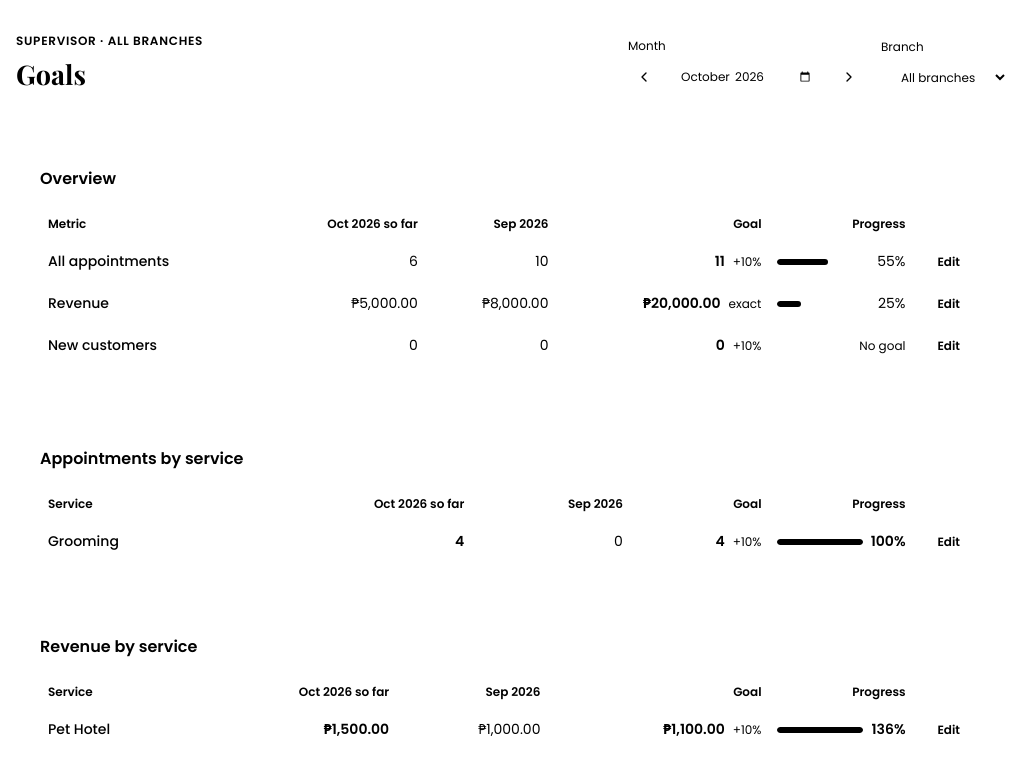
Test: GoalsPage › saves a new growth rate and exact target, then reloads
Check: the row "All appointments 6 10 11+10% 55% Edit" is shown, box top-left (40, 240), bottom-right (984, 282)
Click the button with aria-label "Edit goal for All appointments" at (949, 262), box top-left (922, 248), bottom-right (976, 274)
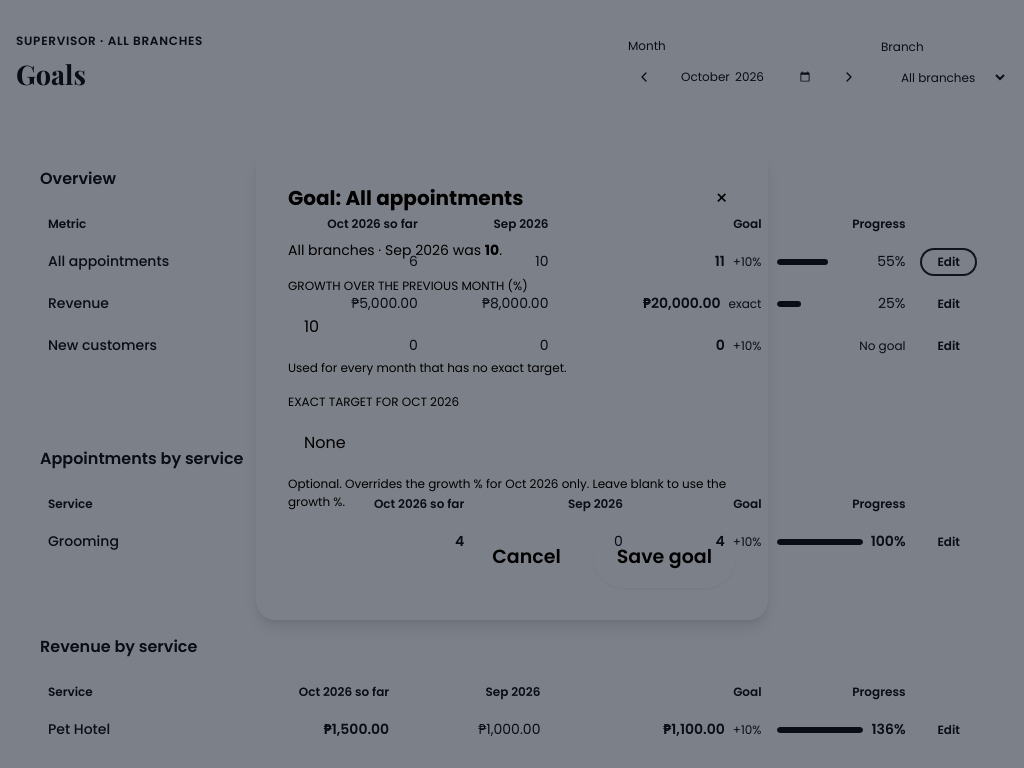
Replace the text in the number field labelled "Growth over the previous" with "20" at (512, 327), box top-left (288, 299), bottom-right (736, 355)
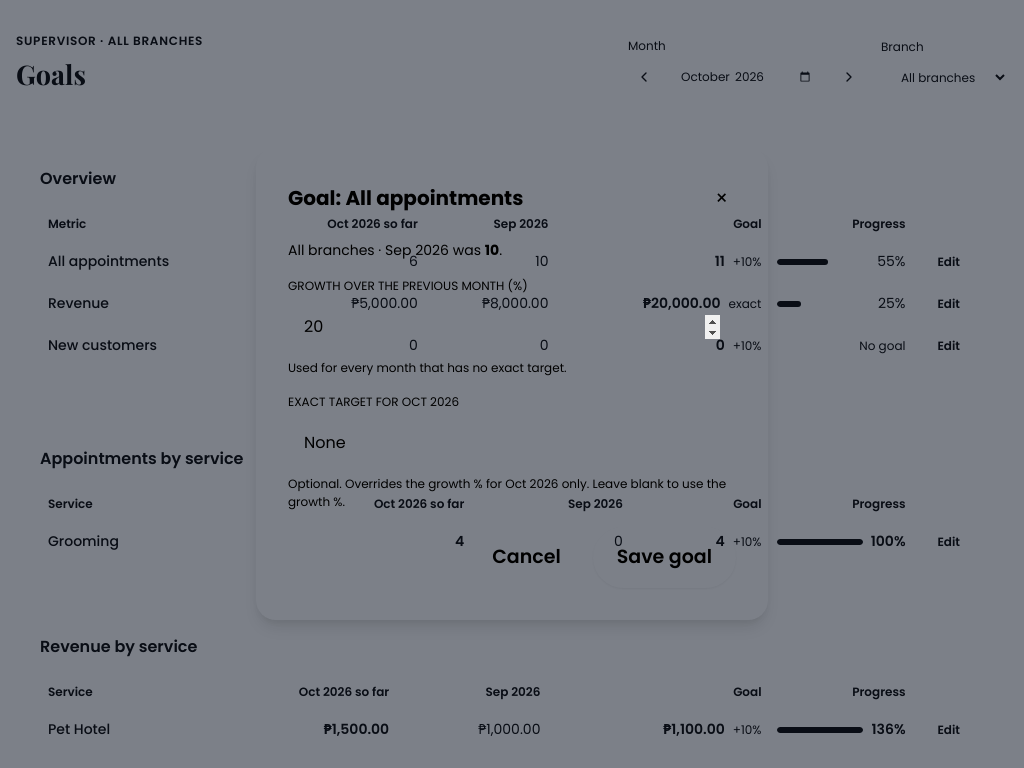
Type "15" into the number field labelled "Exact target" at (512, 443), box top-left (288, 415), bottom-right (736, 471)
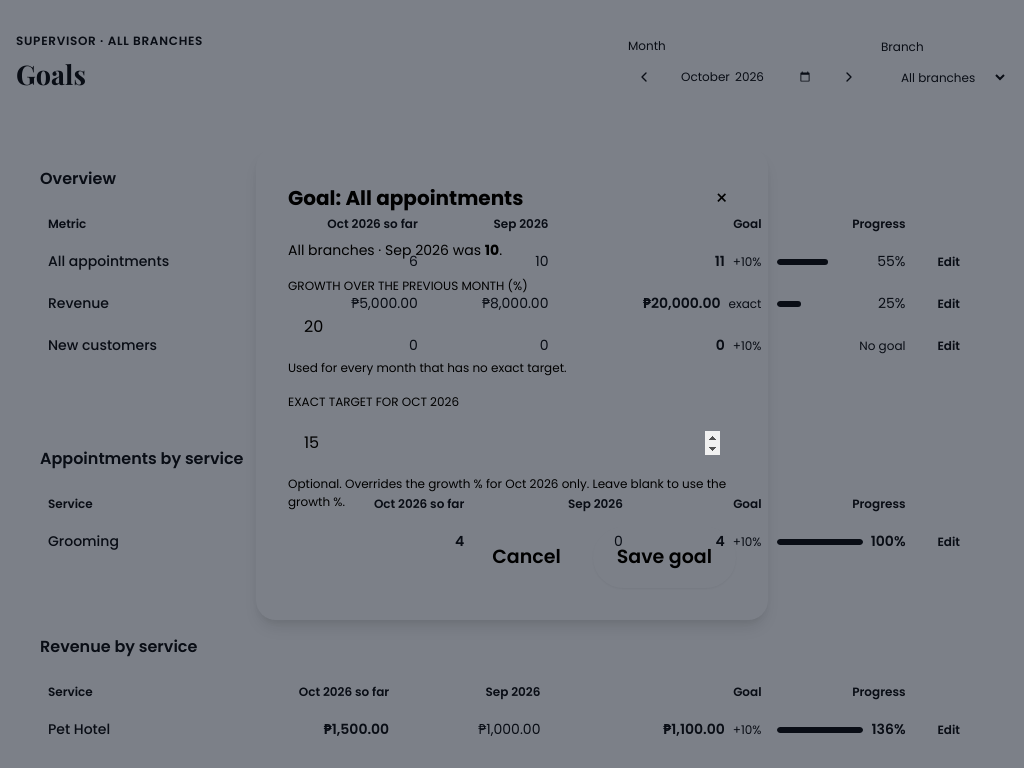
Click the button "Save goal" at (664, 558), box top-left (593, 527), bottom-right (736, 588)
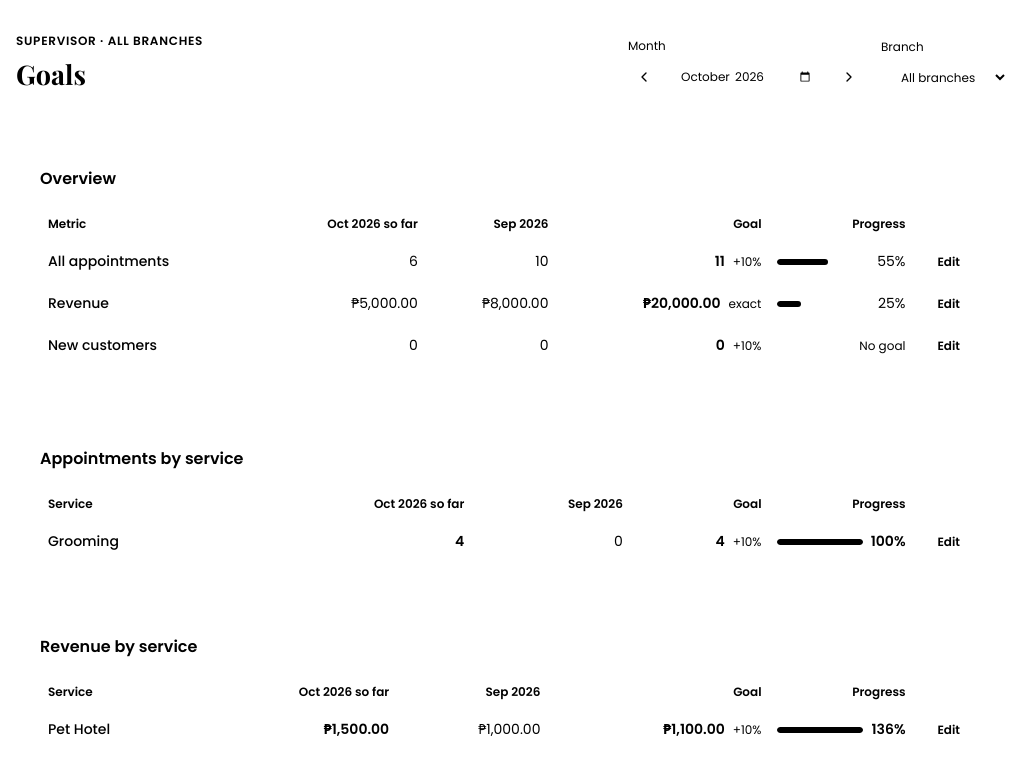
Check: the dialog is gone
